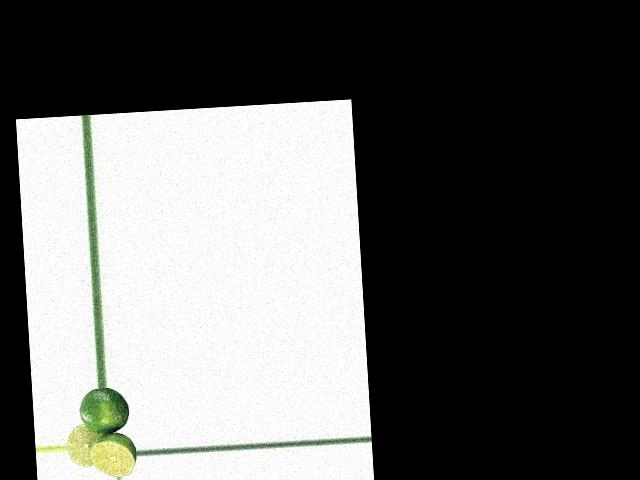lemon: (79, 387, 128, 437)
